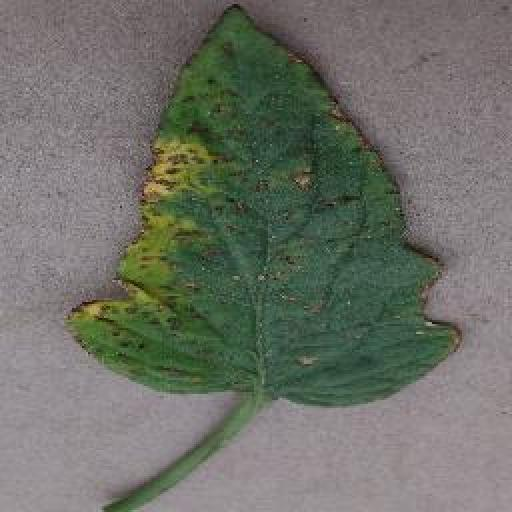Bacterial Spot: (56, 0, 480, 420)
